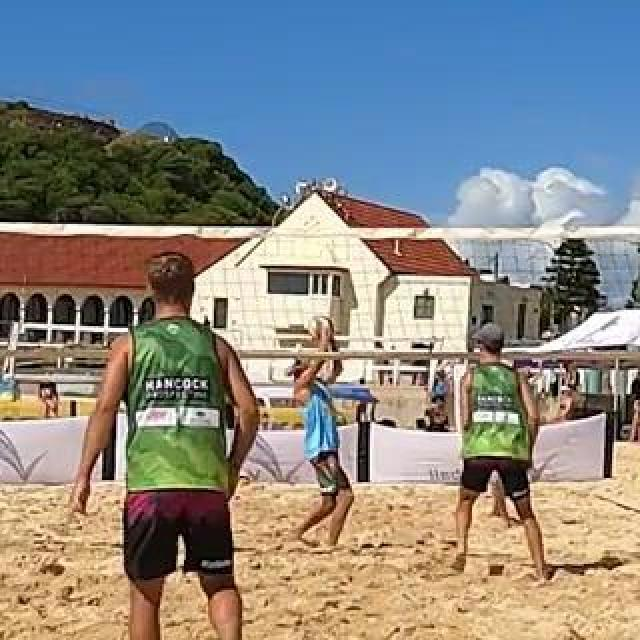volleyball: (307, 315, 335, 341)
